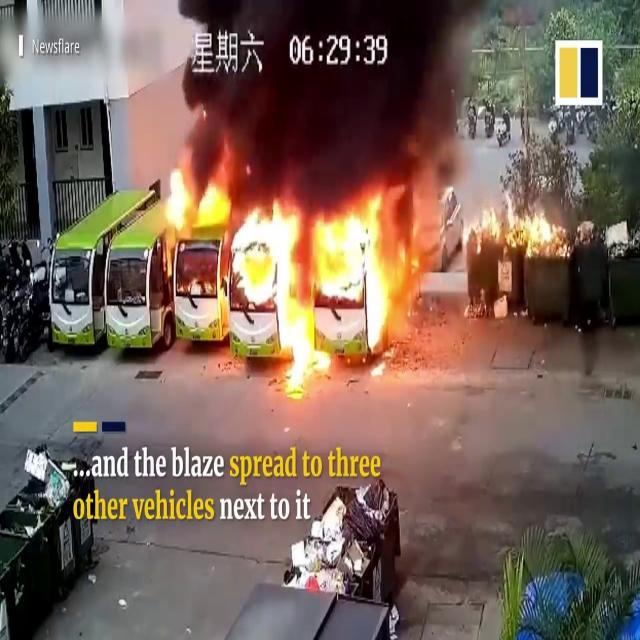Fire: (158, 152, 411, 366), (466, 188, 574, 268)
Smoke: (120, 0, 482, 192)
